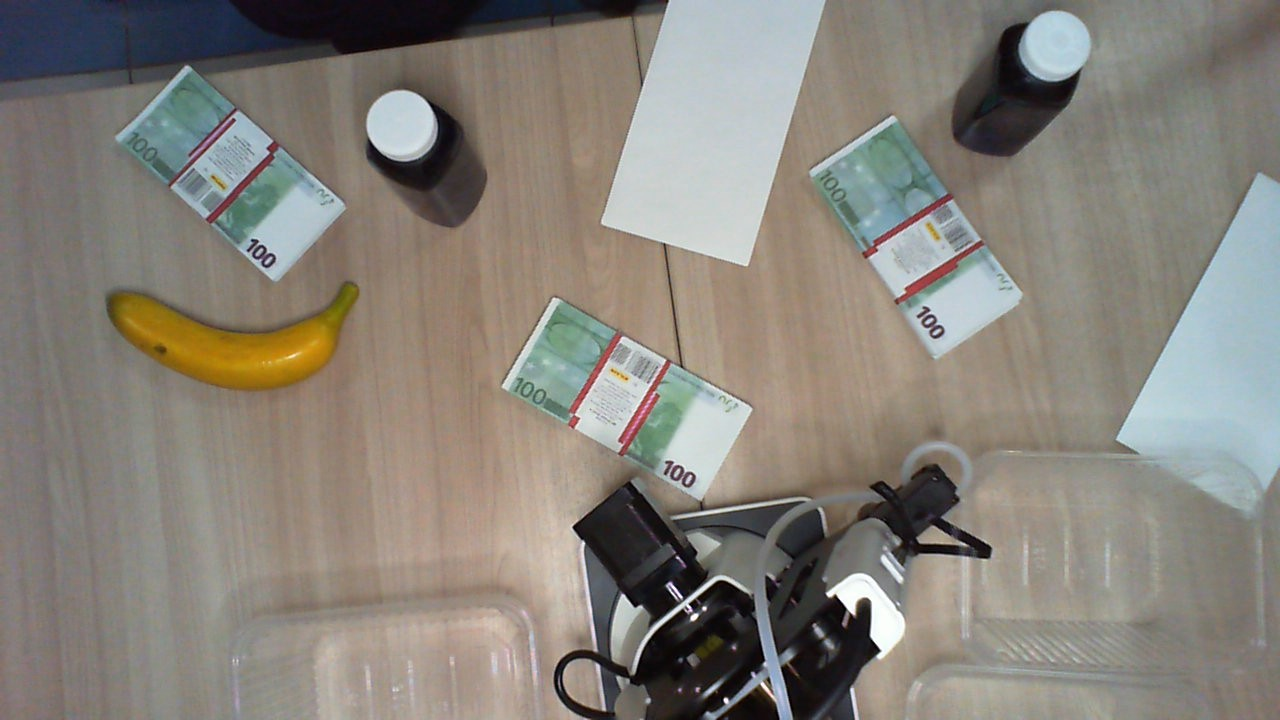banana: (106, 279, 360, 393)
bottle: (998, 9, 1092, 107), (364, 90, 458, 183)
convert: (600, 1, 828, 269), (1117, 173, 1279, 515)
money: (808, 115, 1023, 362), (503, 295, 754, 505), (117, 65, 342, 277)
